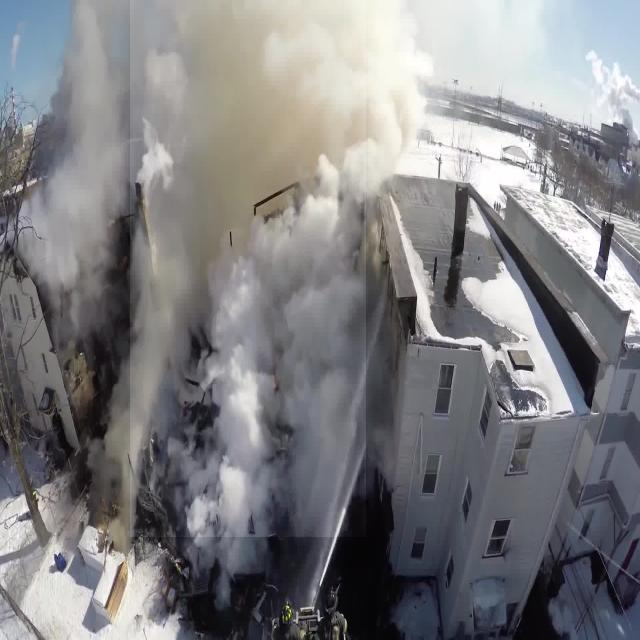Smoke: (130, 0, 366, 537)
